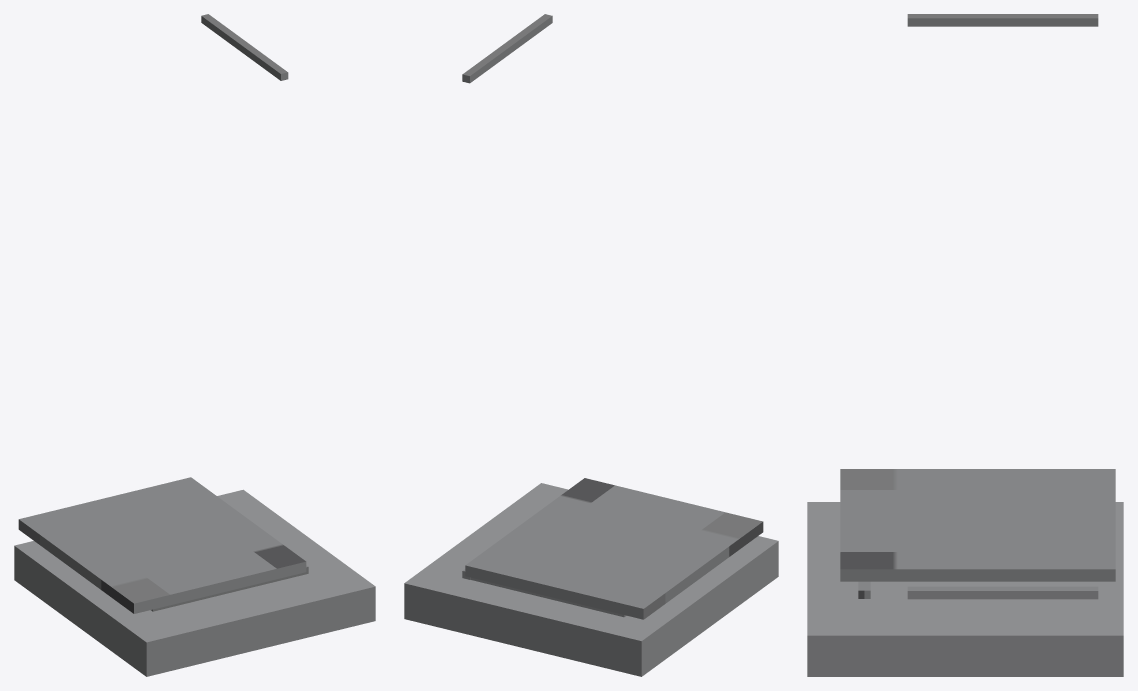
The picture shows the model from 3 angles, left to right: view 1: azimuth 30°, elevation 25°; view 2: azimuth 150°, elevation 25°; view 3: azimuth 270°, elevation 25°; orthographic projection. The views are drawn at different scales.
Bounding box in the file's own units: 0.3794 × 0.8369 × 0.3794.
